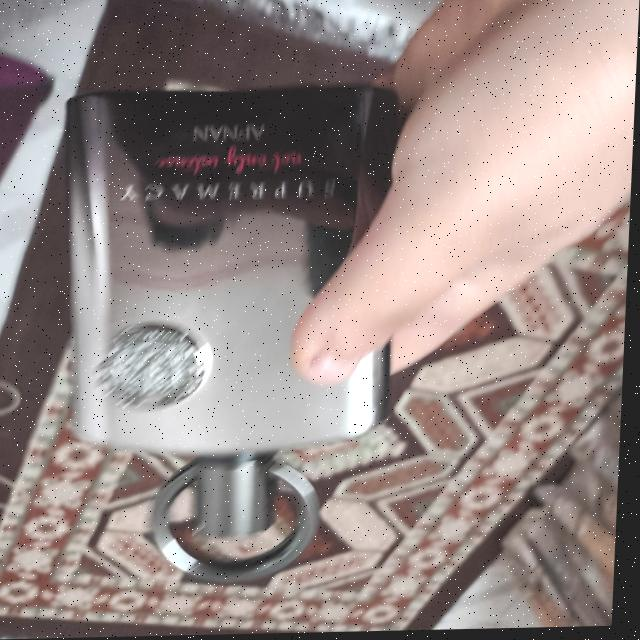Afnan: (48, 84, 408, 594)
